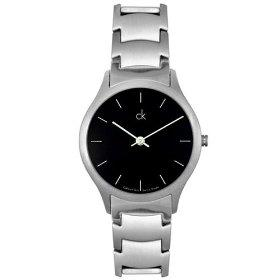watch: (77, 67, 216, 214)
